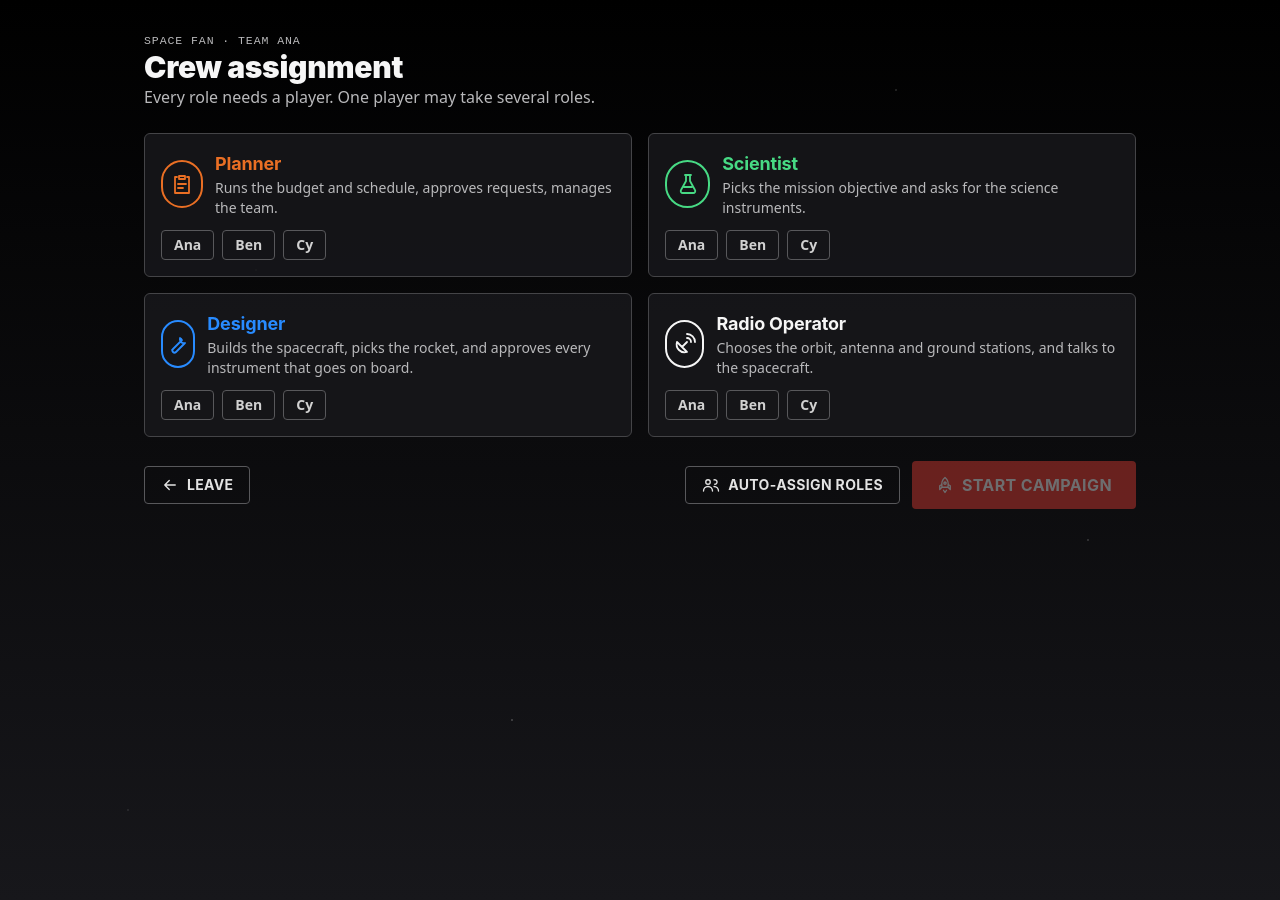
Test: Lobby (pass-and-play) › auto-assign fills every role
The image size is (1280, 900).
Click the button "Auto-assign roles" at coordinates (793, 485), box [685,466,900,504]
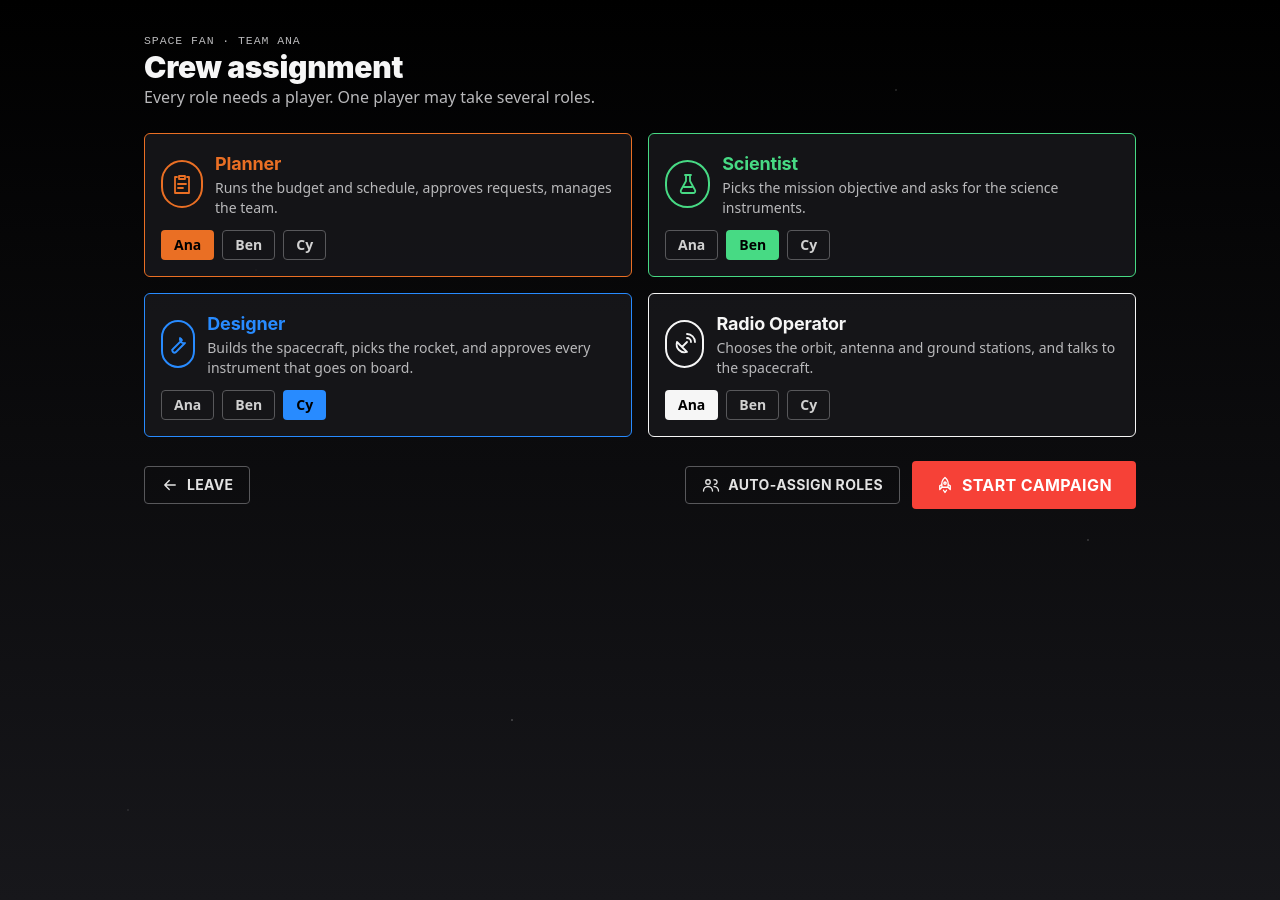
Expected: the button "Start campaign" is enabled, [912,461,1136,509]
